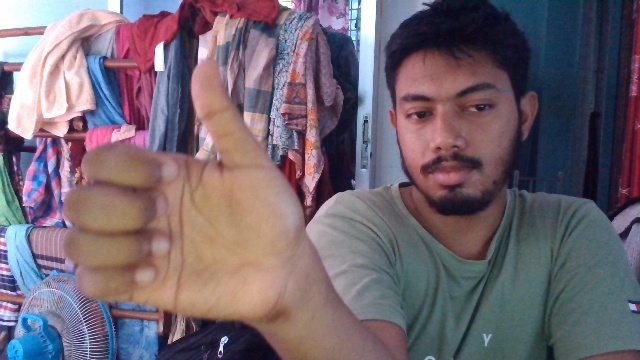yes: (54, 56, 306, 349)
